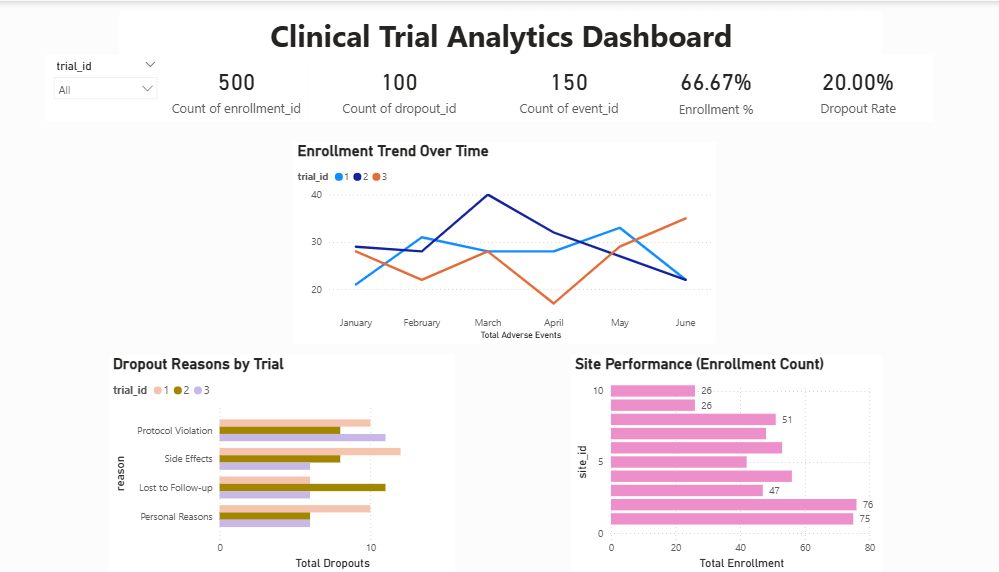

Layout of this report page (visuals, bound fields, positions):
{"tool":"powerbi","page":{"name":"Page 1","canvas":[1280,720],"ordinal":0},"visuals":[{"type":"clusteredBarChart","title":"Dropout Reasons by Trial","fields":{"Category":["public dropouts.reason"],"Y":["CountNonNull(public dropouts.dropout_id)"],"Series":["public dropouts.trial_id"]},"box":[148,446,436,274],"z":0},{"type":"lineChart","title":"Enrollment Trend Over Time","fields":{"Y":["CountNonNull(public enrollment.enrollment_id)"],"Series":["public enrollment.trial_id"],"Category":["public enrollment.enrollment_date.Variation.Date Hierarchy.Month"]},"box":[380,178,532,254],"z":1000},{"type":"clusteredBarChart","title":"Site Performance (Enrollment Count)","fields":{"Category":["public sites.site_id"],"Y":["CountNonNull(public enrollment.enrollment_id)"]},"box":[730,446,392,274],"z":2000},{"type":"card","fields":{"Values":["public adverse_events.Dropout Rate"]},"box":[996,68,190,84],"z":3000},{"type":"card","fields":{"Values":["CountNonNull(public enrollment.enrollment_id)"]},"box":[218,68,180,84],"z":4000},{"type":"card","fields":{"Values":["CountNonNull(public dropouts.dropout_id)"]},"box":[398,68,228,84],"z":5000},{"type":"card","fields":{"Values":["CountNonNull(public adverse_events.event_id)"]},"box":[626,68,202,84],"z":6000},{"type":"textbox","box":[160,13.3,961.7,65],"z":7000},{"type":"card","fields":{"Values":["public adverse_events.Enrollment %"]},"box":[828,70,168,82],"z":8000},{"type":"slicer","fields":{"Values":["public enrollment.trial_id"]},"box":[68,68,150,84],"z":9000}]}

Visuals, with their boxes in screenshot pixels (x1, y1, x2, y2), scaled from the page's 1280x720 canvas onto the 999x572 screenshot:
"Dropout Reasons by Trial" clusteredBarChart: bbox(116, 354, 456, 571)
"Enrollment Trend Over Time" lineChart: bbox(297, 141, 712, 343)
"Site Performance (Enrollment Count)" clusteredBarChart: bbox(570, 354, 876, 571)
card - public adverse_events.Dropout Rate: bbox(777, 54, 926, 121)
card - CountNonNull(public enrollment.enrollment_id): bbox(170, 54, 311, 121)
card - CountNonNull(public dropouts.dropout_id): bbox(311, 54, 489, 121)
card - CountNonNull(public adverse_events.event_id): bbox(489, 54, 646, 121)
textbox: bbox(125, 11, 875, 62)
card - public adverse_events.Enrollment %: bbox(646, 56, 777, 121)
slicer - public enrollment.trial_id: bbox(53, 54, 170, 121)
